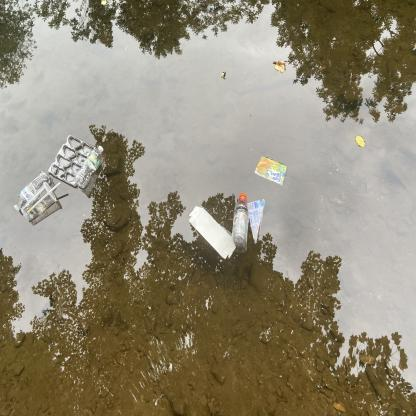trash: (186, 202, 239, 264), (44, 132, 99, 188), (20, 177, 64, 223), (70, 142, 110, 190), (11, 169, 53, 214), (229, 188, 254, 248), (244, 196, 271, 248), (251, 153, 290, 188)
